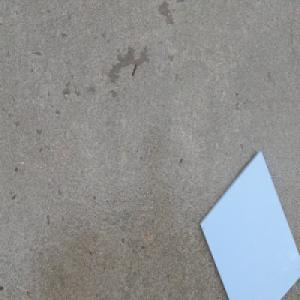PaintChip: (197, 146, 300, 300)
